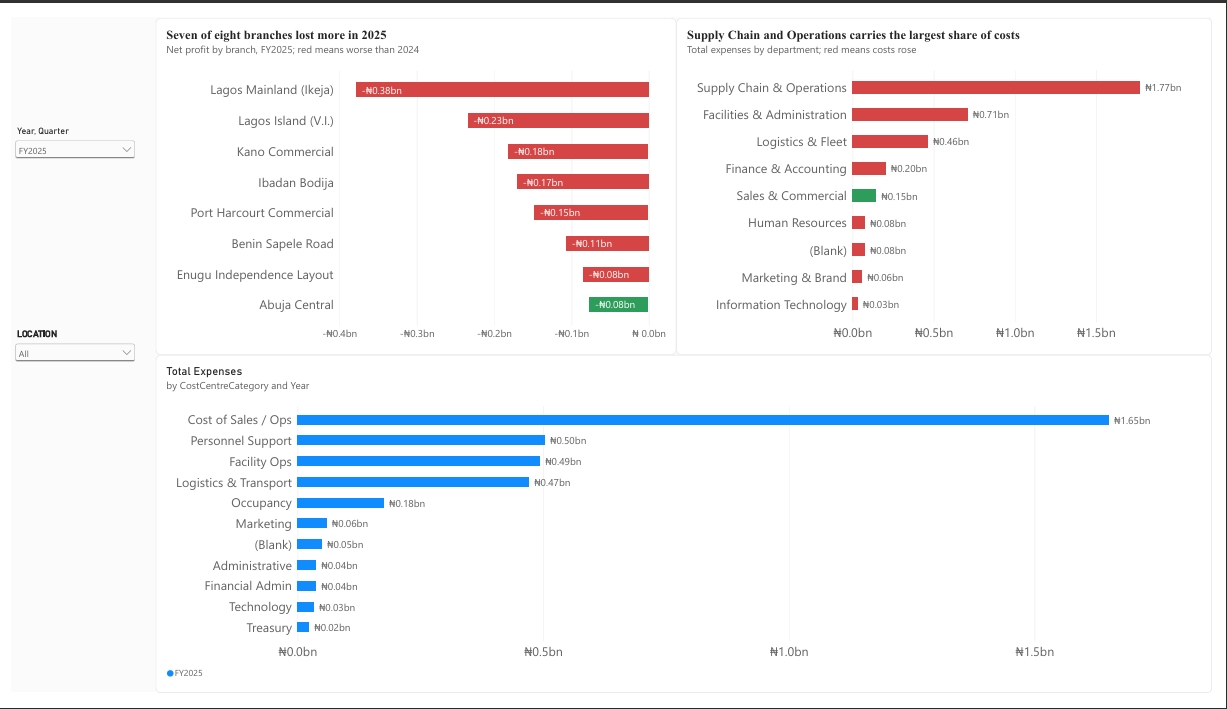

What the dashboard file says about the page in this screenshot:
{"tool":"powerbi","page":{"name":"Branch and Department efficiency","canvas":[1920,1080],"ordinal":3},"visuals":[{"type":"clusteredBarChart","title":"Seven of eight branches lost more in 2025","fields":{"Category":["Branch.BranchName"],"Y":["FactFinancialTransactions.Net Profit"]},"box":[230.4,0,832.1,539.3],"z":0},{"type":"slicer","fields":{"Values":["DimDate.Year","DimDate.Quarter"]},"box":[0,173.3,202,234],"z":1000},{"type":"clusteredBarChart","title":"Supply Chain and Operations carries the largest share of costs","fields":{"Category":["Department.DepartmentName"],"Y":["FactFinancialTransactions.Total Expenses"]},"box":[1062.5,0,857.1,539.3],"z":2000},{"type":"slicer","fields":{"Values":["Branch.Region","Branch.State","Branch.BranchName"]},"box":[0,498,202,218],"z":3000},{"type":"clusteredBarChart","fields":{"Category":["CostCentre.CostCentreCategory"],"Series":["DimDate.Year"],"Y":["FactFinancialTransactions.Total Expenses"]},"box":[230.4,539.3,1689.3,541.1],"z":3001}]}

Visuals, with their boxes on the page's 1920x1080 design canvas (x1, y1, x2, y2). These are canvas units, not pixel positions in the 1227x709 screenshot, which may show the page scaled, cropped or inside an application window:
"Seven of eight branches lost more in 2025" clusteredBarChart: bbox(230, 0, 1062, 539)
slicer - DimDate.Year x DimDate.Quarter: bbox(0, 173, 202, 407)
"Supply Chain and Operations carries the largest share of costs" clusteredBarChart: bbox(1062, 0, 1920, 539)
slicer - Branch.Region x Branch.State: bbox(0, 498, 202, 716)
clusteredBarChart - CostCentre.CostCentreCategory x DimDate.Year: bbox(230, 539, 1920, 1080)
